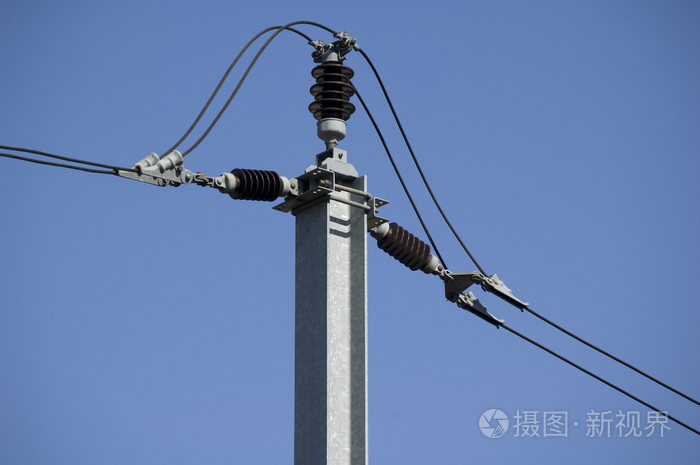insulator: (308, 64, 359, 122), (378, 224, 430, 272), (228, 168, 284, 203)
